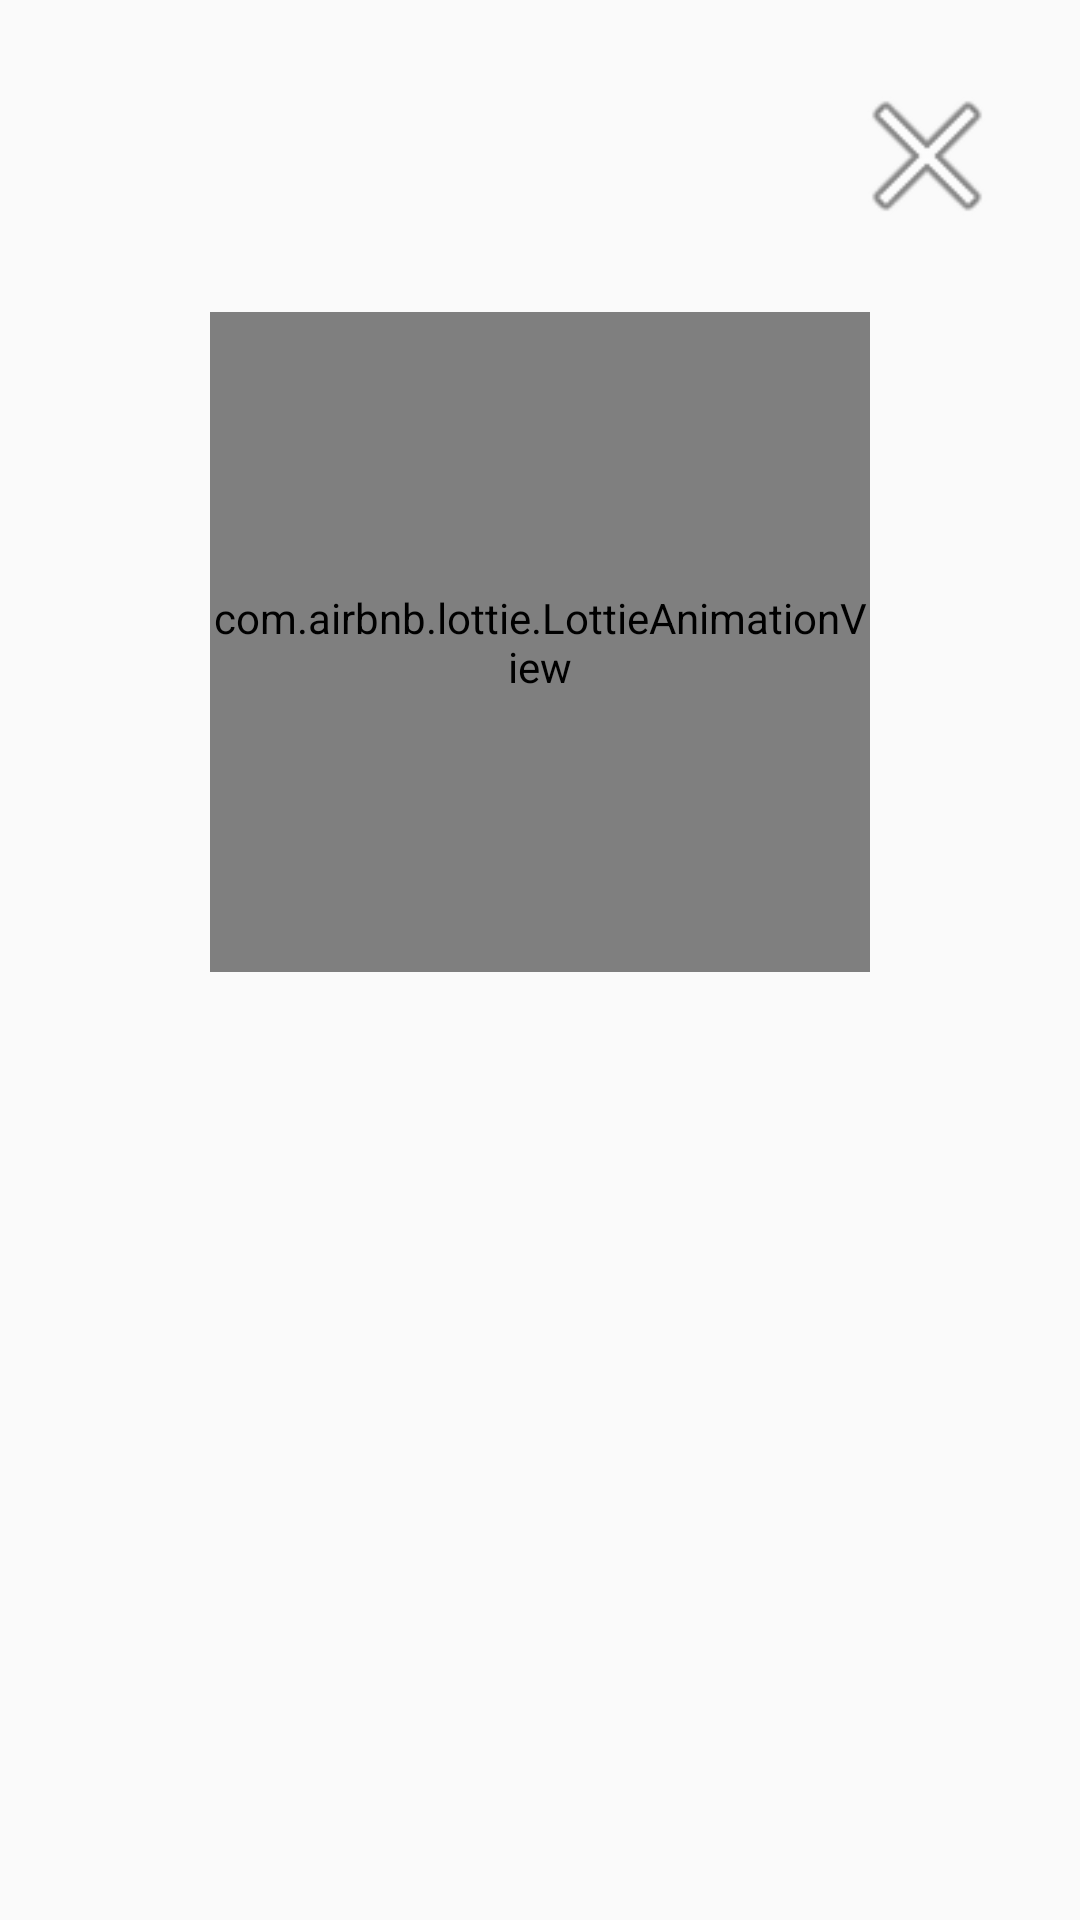

Where to tap for icons on this 1080x1920 app screen, as (x=x, y=y):
close clear cancel: (x=927, y=156)
